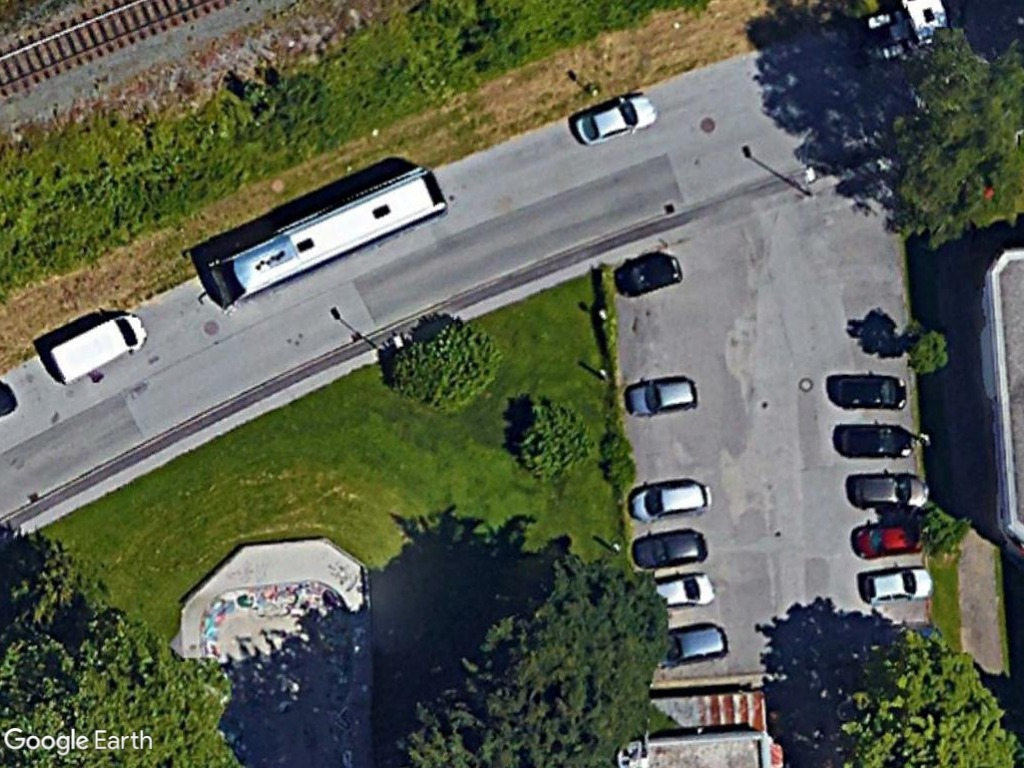bus: (203, 160, 448, 309)
car: (568, 87, 660, 148), (623, 474, 716, 527), (628, 525, 709, 575), (844, 468, 933, 513), (620, 373, 701, 421), (857, 560, 937, 608), (831, 421, 918, 462), (831, 372, 912, 413)
van: (43, 305, 147, 386)
